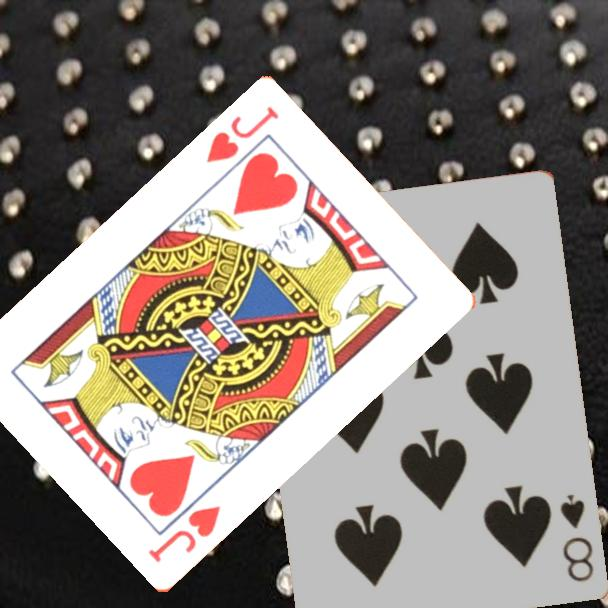h11: (144, 502, 224, 567), (202, 103, 282, 167)
s08: (557, 491, 597, 586)
